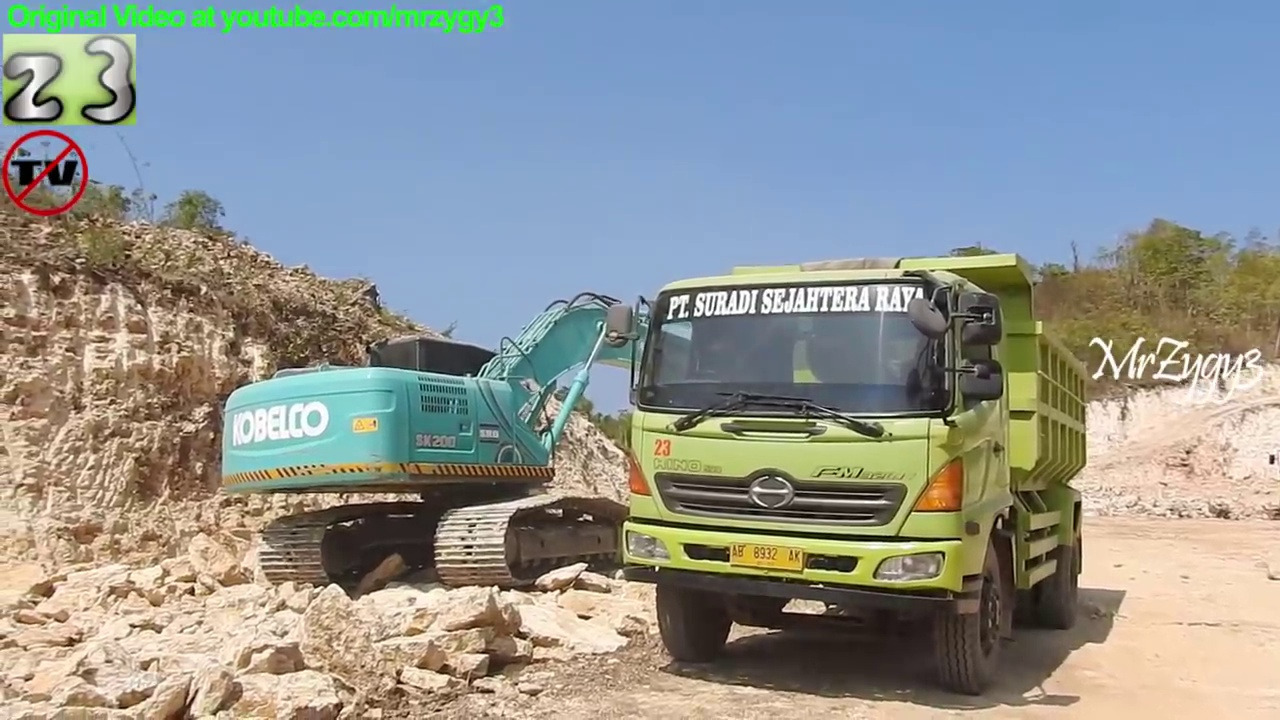excavator: (212, 286, 951, 602)
truck: (595, 244, 1100, 700)
